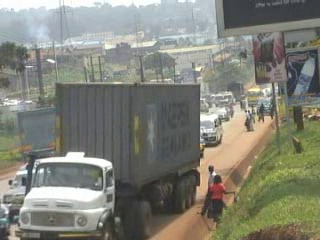Car: (1, 160, 45, 215), (209, 104, 235, 120)
Motorcycle: (0, 198, 14, 235)
